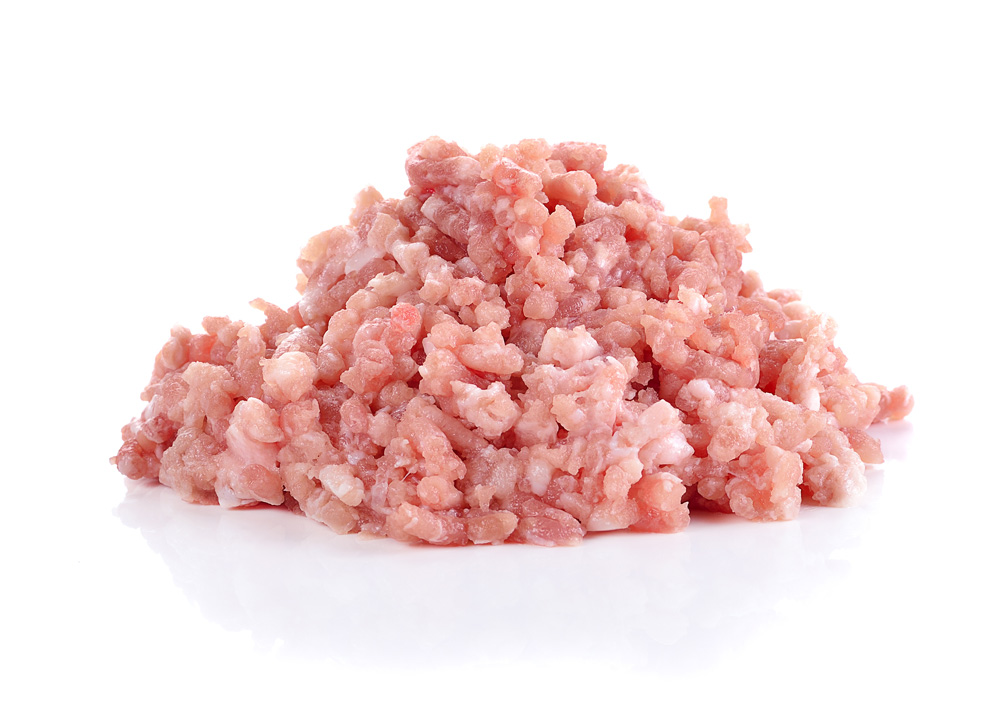ground_beef: (78, 131, 920, 566)
